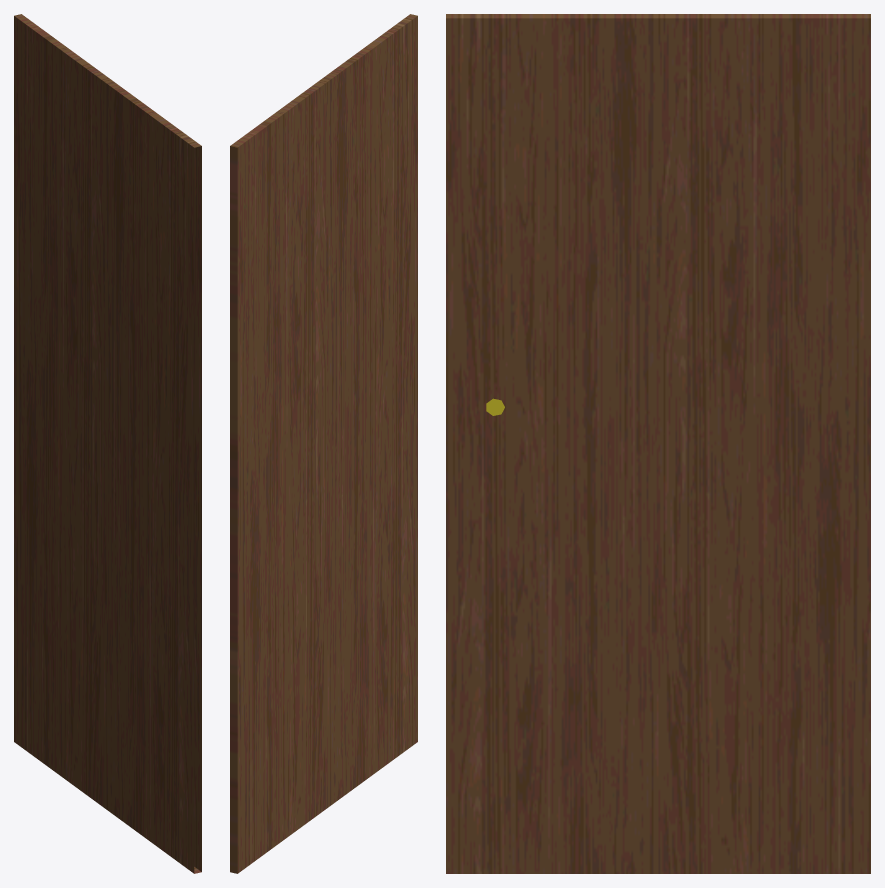
Rendered from right-door.glb.
3 views of the same model, side by side, from view 1: azimuth 30°, elevation 25°; view 2: azimuth 150°, elevation 25°; view 3: azimuth 270°, elevation 25° (orthographic). The views are drawn at different scales.
Parts seen in each view (by area): view 1: Right_door; view 2: Right_door; view 3: Right_door.
Part boxes in pixels (x1=…): Right_door: x1=14, y1=14, x2=201, y2=873; Right_door: x1=230, y1=14, x2=417, y2=873; Right_door: x1=446, y1=14, x2=870, y2=873.
Bounding box in the file's own units: 0.0489 × 1.92 × 0.8621.
2 materials, 1 textured.
